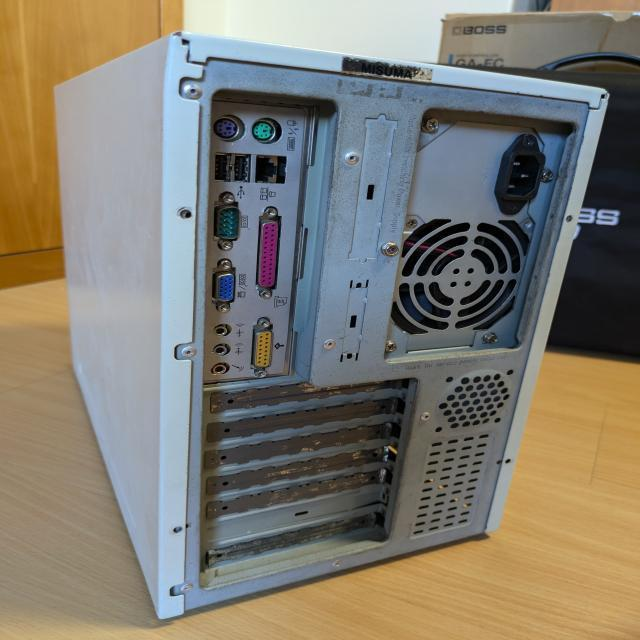PSU: (387, 109, 557, 358)
